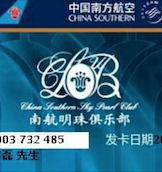ImgView: (1, 1, 161, 171)
